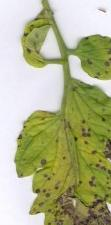Tomato Septoria leaf spot: (6, 82, 111, 225), (72, 28, 111, 91)
